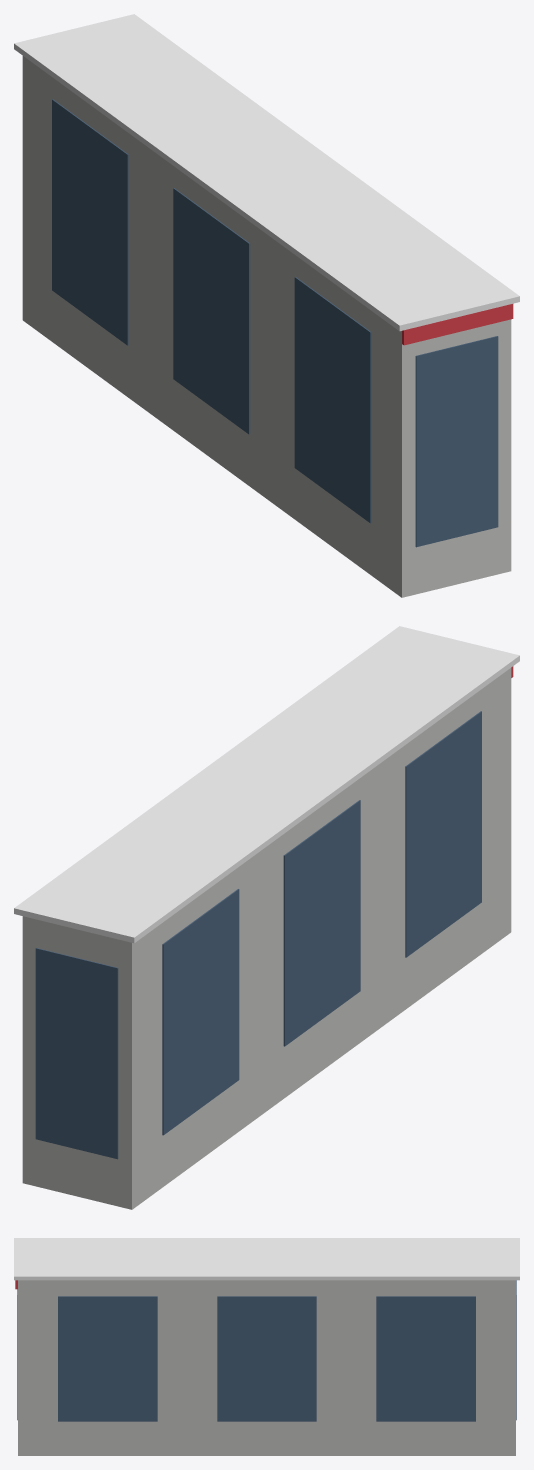
The model's file is boxes_ponta.glb.
3 views of the same model, one above another, from view 1: azimuth 30°, elevation 25°; view 2: azimuth 150°, elevation 25°; view 3: azimuth 270°, elevation 25° (orthographic). The views are drawn at different scales.
Parts seen in each view (by area): view 1: concreto, vidro, teto, vermelho; view 2: concreto, vidro, teto; view 3: concreto, vidro, teto.
Boxes of the visible parts, <box> form: concreto: <box>22,56,511,597</box>; vidro: <box>52,99,498,547</box>; teto: <box>14,14,519,331</box>; vermelho: <box>402,304,513,345</box>; concreto: <box>22,668,511,1209</box>; vidro: <box>35,711,481,1159</box>; teto: <box>14,626,519,943</box>; concreto: <box>18,1280,515,1455</box>; vidro: <box>17,1280,516,1421</box>; teto: <box>14,1238,519,1280</box>.
Size of the model in its own units: 6.6 by 14.45 by 36.6.
